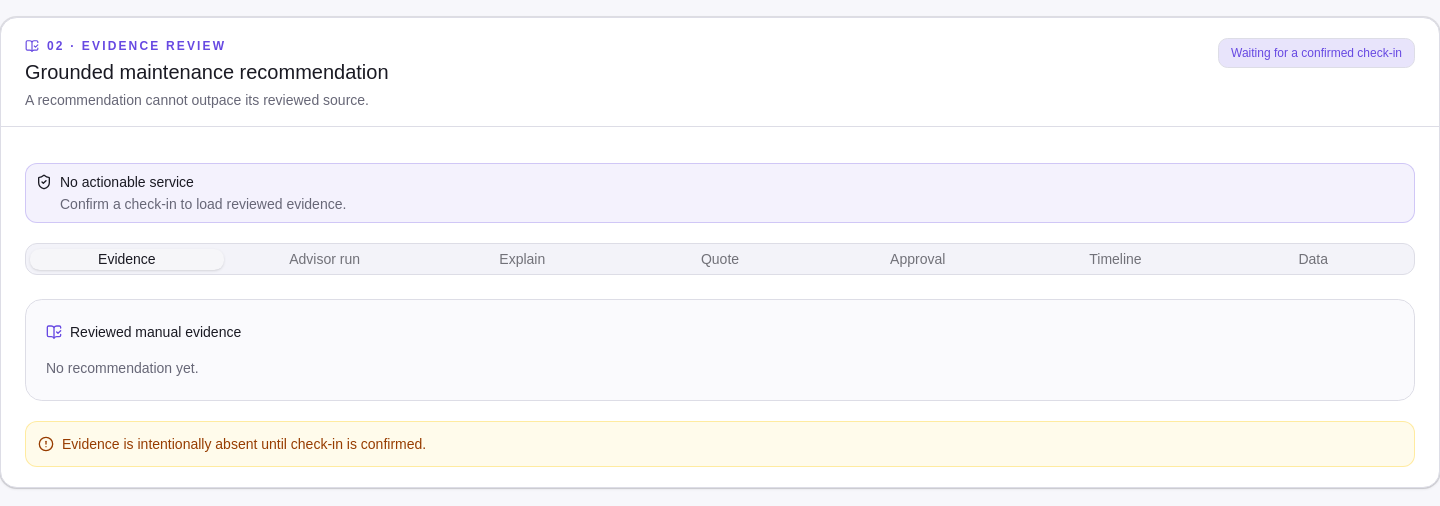
Test: keeps the customer timeline behind an approved quote
The width and height of the screenshot is (1440, 506).
Click the tab "Timeline".
click(1115, 259)  # box [1019,248,1212,270]
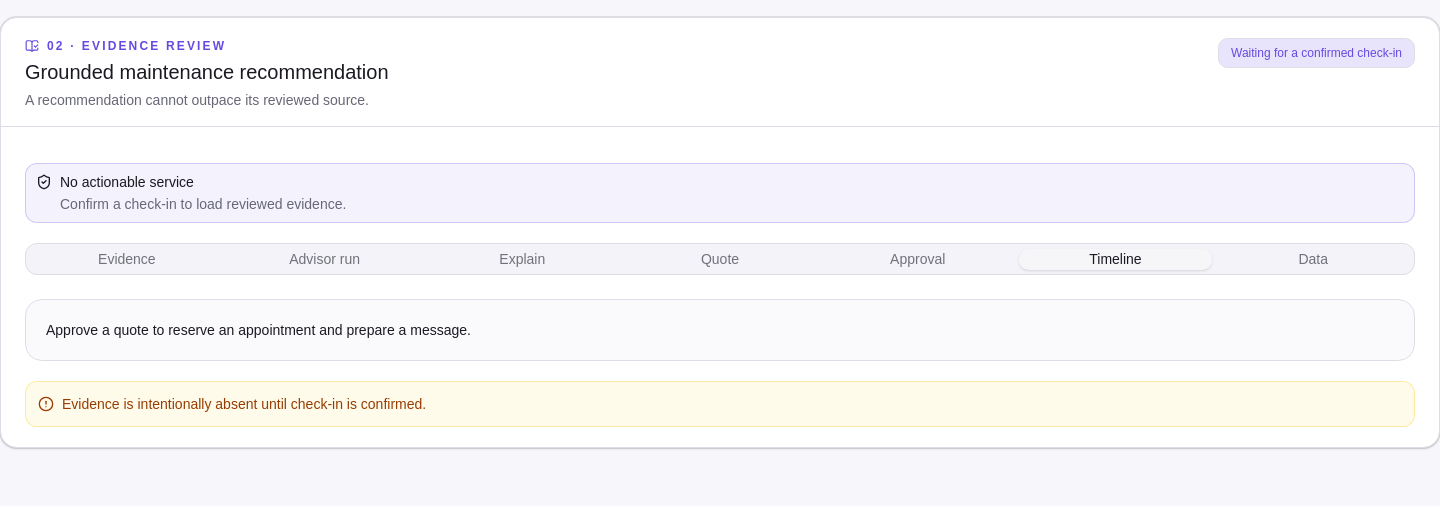
Result: the text "Approve a quote to reserve an appointment and prepare a message." is shown at [46,322,471,338]
